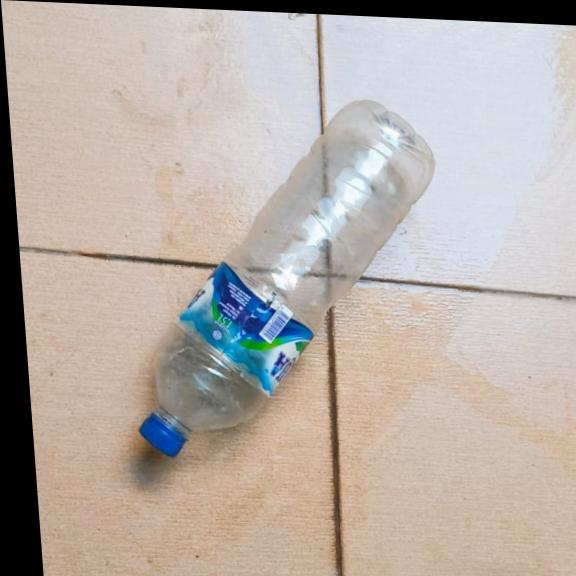Plastik: (112, 87, 457, 472)
